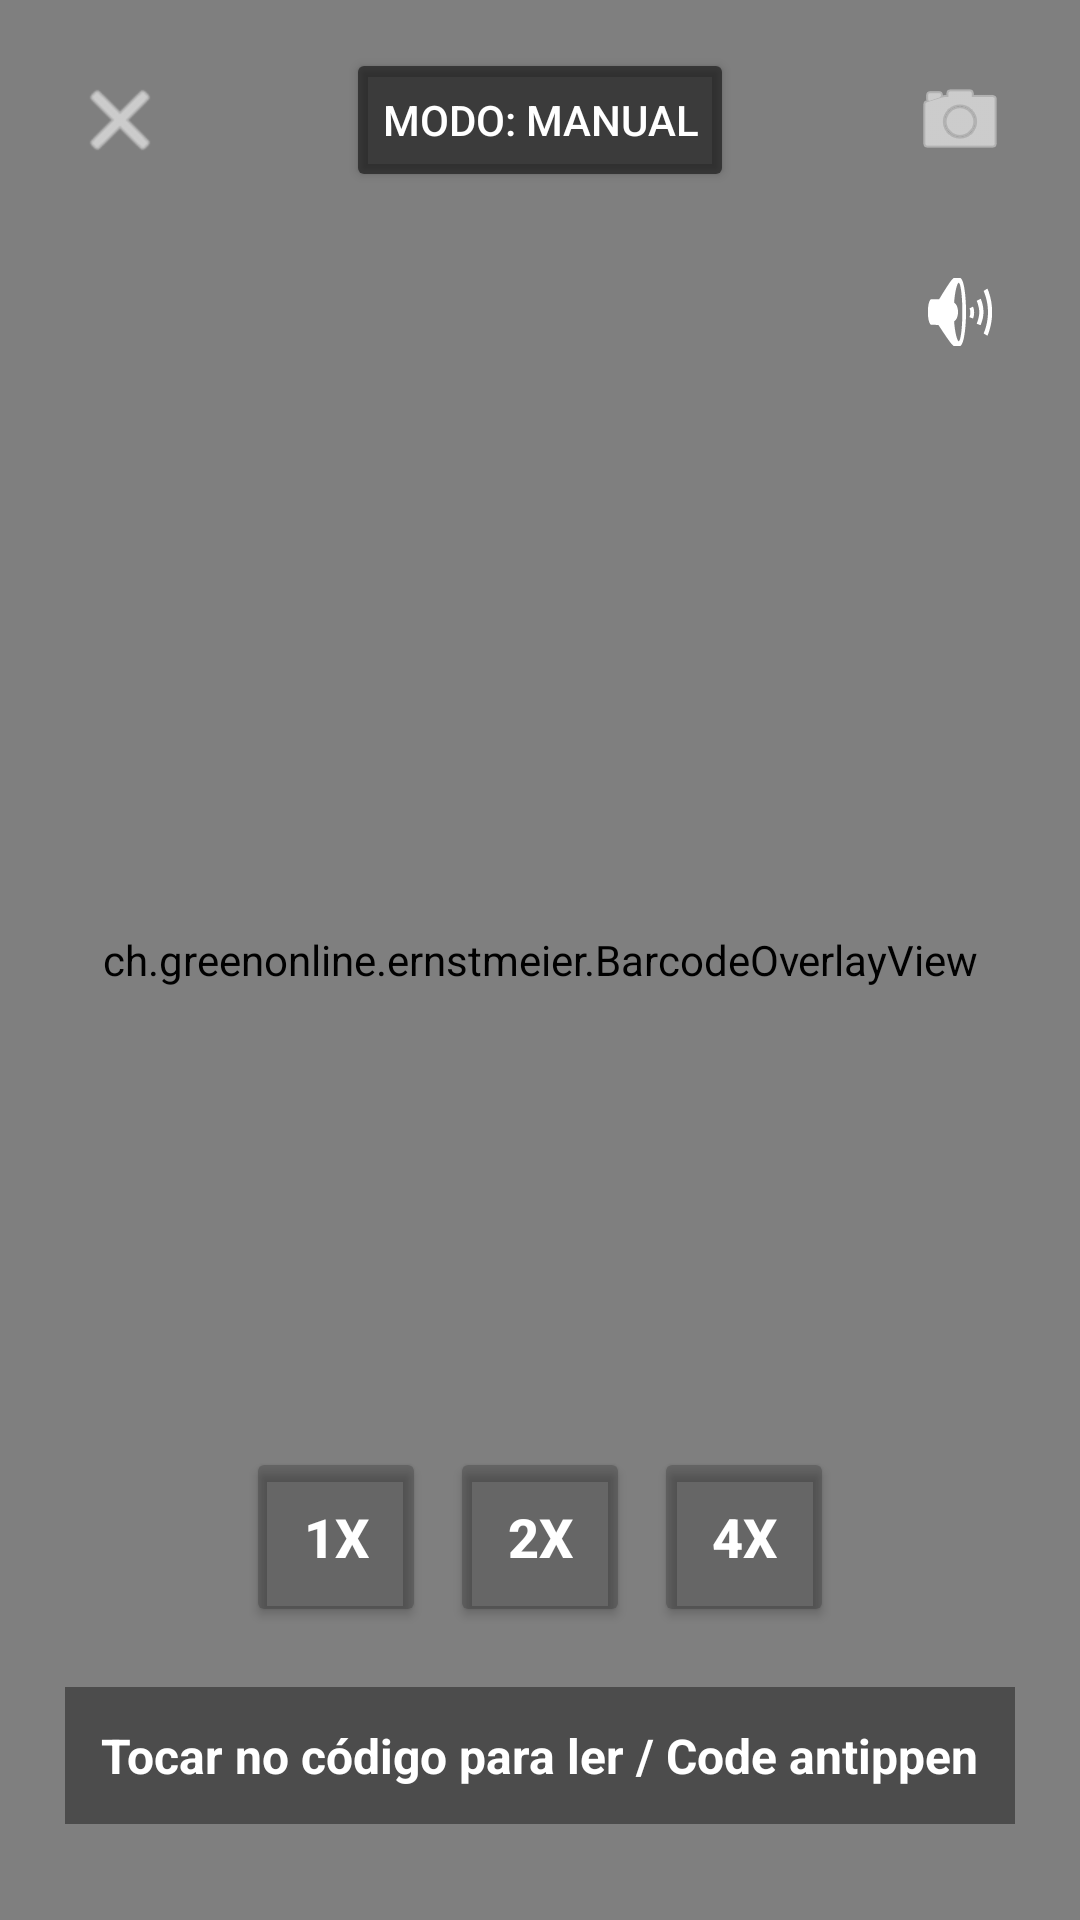

Screen size 1080×1920. Icon name, then its center in pixels as [x,y]:
close clear cancel: [120,120]
lock silent mode off: [960,312]
